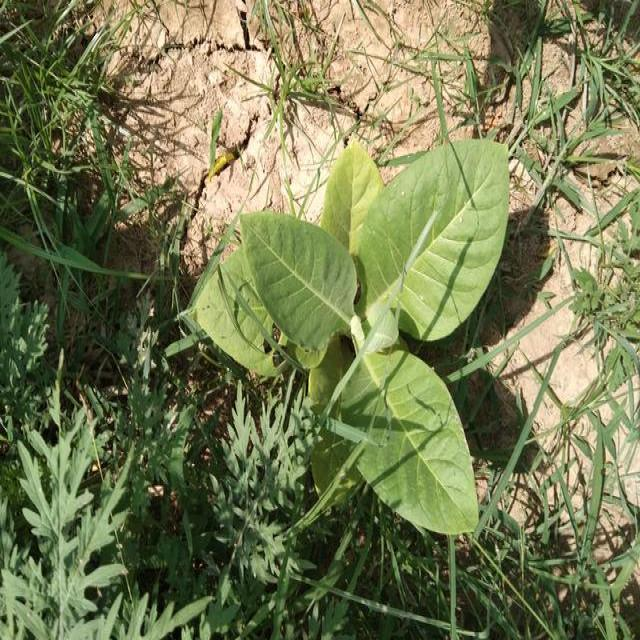crop: (196, 150, 524, 536)
